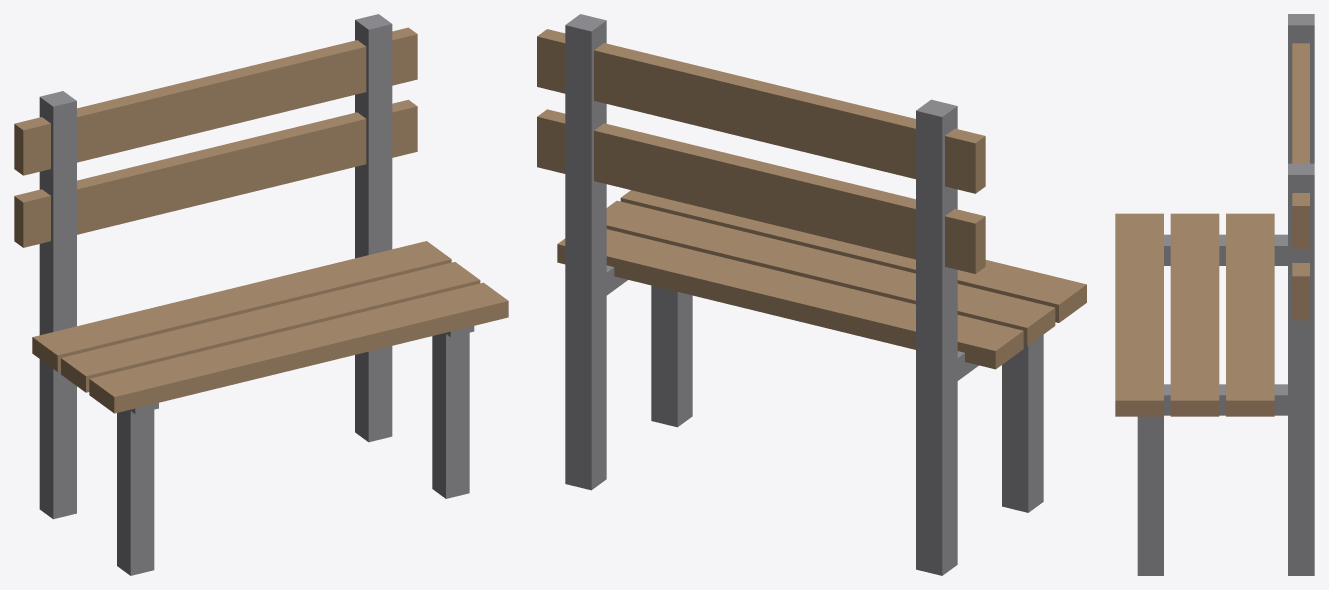
The model's file is minibench.glb.
The picture shows the model from 3 angles, left to right: view 1: azimuth 30°, elevation 25°; view 2: azimuth 150°, elevation 25°; view 3: azimuth 270°, elevation 25°; orthographic projection. The views are drawn at different scales.
Visible parts, largest first — view 1: minibench; view 2: minibench; view 3: minibench.
Part boxes in pixels (x1,y1,x2,y2): minibench: [14, 14, 508, 575]; minibench: [537, 14, 1086, 575]; minibench: [1115, 14, 1314, 575].
Size of the model in its own units: 2 by 2 by 0.9.
